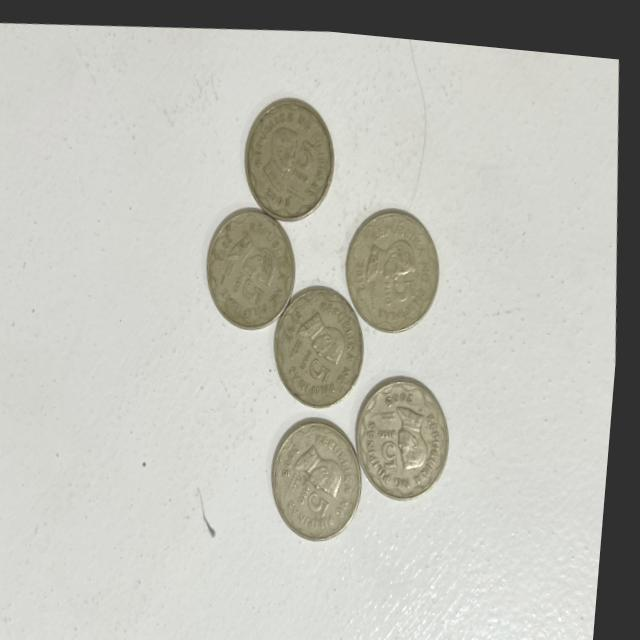5_Old_Front: (290, 124, 325, 189), (233, 261, 281, 305), (294, 472, 344, 513), (376, 408, 411, 465), (380, 262, 423, 301), (302, 338, 340, 378)
